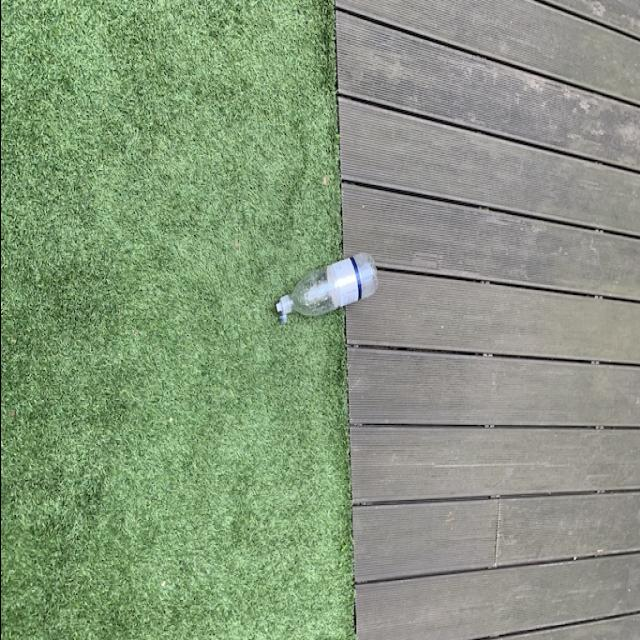PET: (270, 250, 376, 328)
